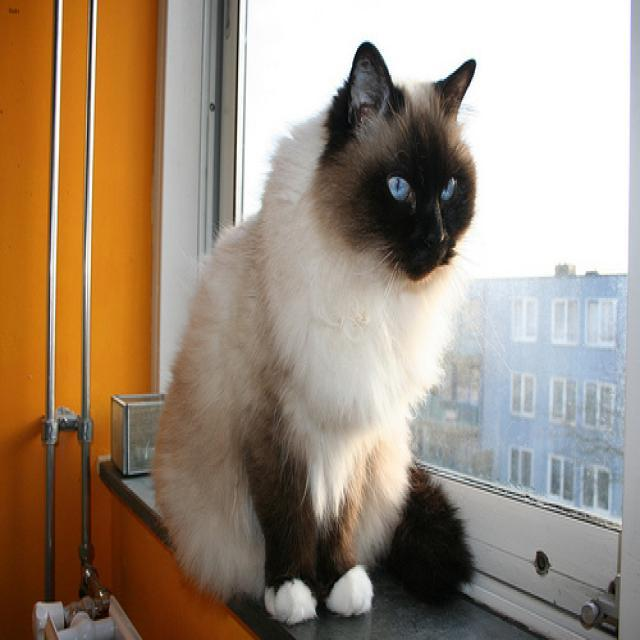Birman: (311, 37, 482, 290)
